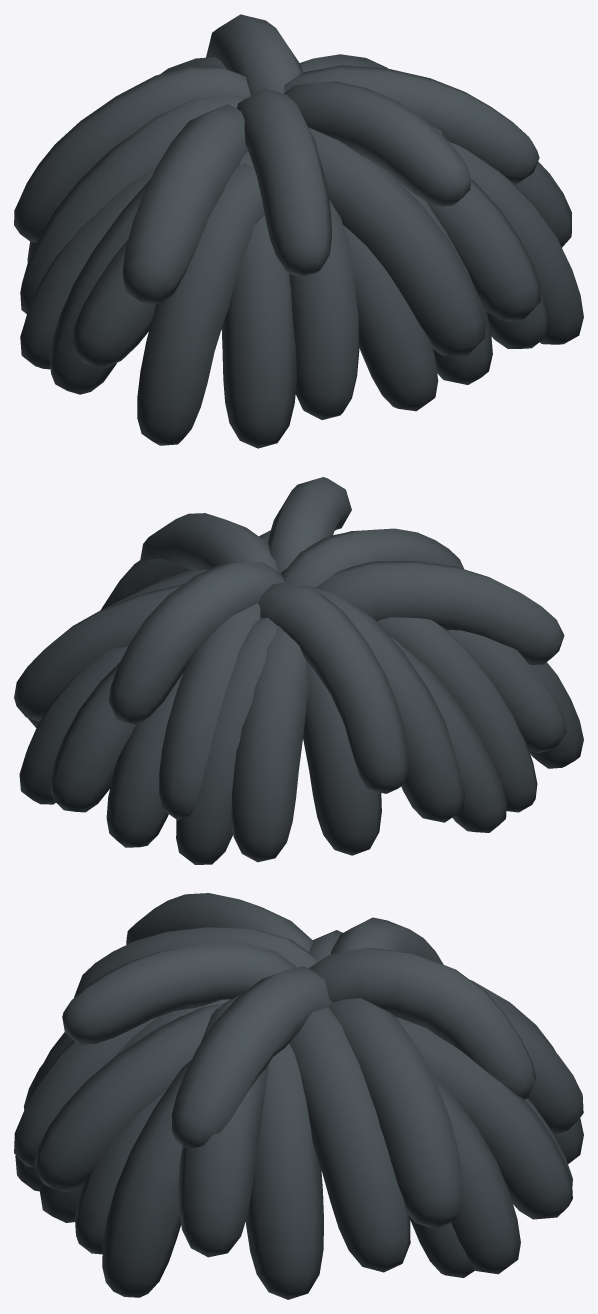
Rendered from Hairstyle_Male_12.glb.
The picture shows the model from 3 angles, top to bottom: view 1: azimuth 30°, elevation 25°; view 2: azimuth 150°, elevation 25°; view 3: azimuth 270°, elevation 25°; orthographic projection. The views are drawn at different scales.
Parts seen in each view (by area): view 1: Hairstyle_Male_12; view 2: Hairstyle_Male_12; view 3: Hairstyle_Male_12.
Part boxes in pixels (x1,y1,x2,y2): Hairstyle_Male_12: (14, 14, 583, 448); Hairstyle_Male_12: (14, 477, 583, 864); Hairstyle_Male_12: (14, 893, 583, 1299).
Size of the model in its own units: 0.6716 by 0.3451 by 0.6632.
1 material, 1 textured.
